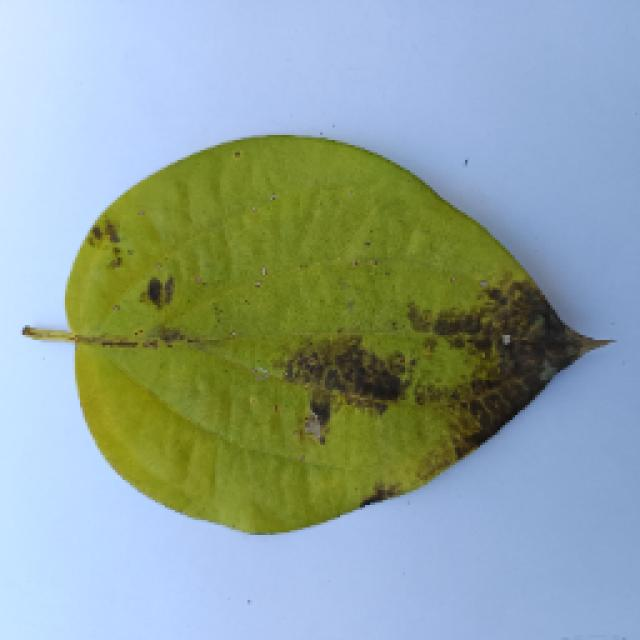slow-decline: (18, 128, 612, 532)
